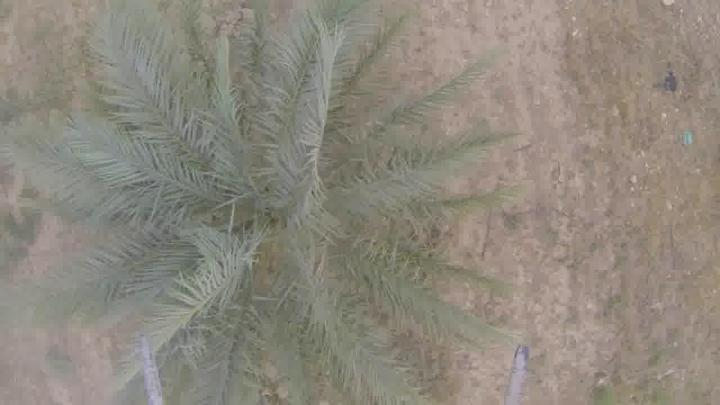Date-Palm-Crown: (116, 55, 450, 369)
